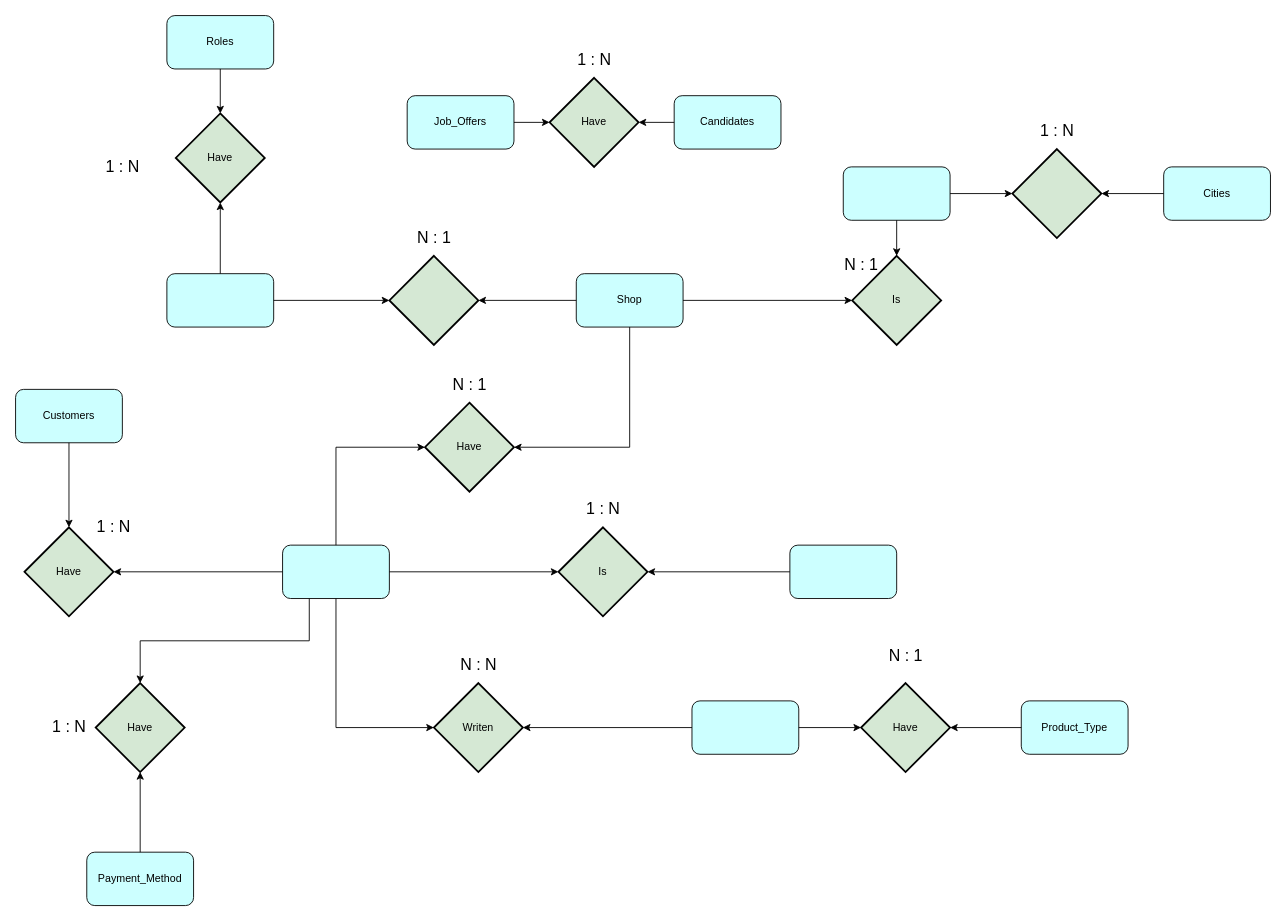
The diagram is 1286 pixels wide and 921 high, and some of its shapes have lost their labels. Each missing label, with the box of its shape:
Belongs: (1011, 148, 1102, 239)
Employee: (166, 273, 274, 327)
Location: (842, 166, 950, 220)
Order_Type: (789, 544, 897, 599)
Orders: (282, 544, 389, 599)
Products: (691, 700, 799, 754)
Works: (388, 255, 479, 345)
